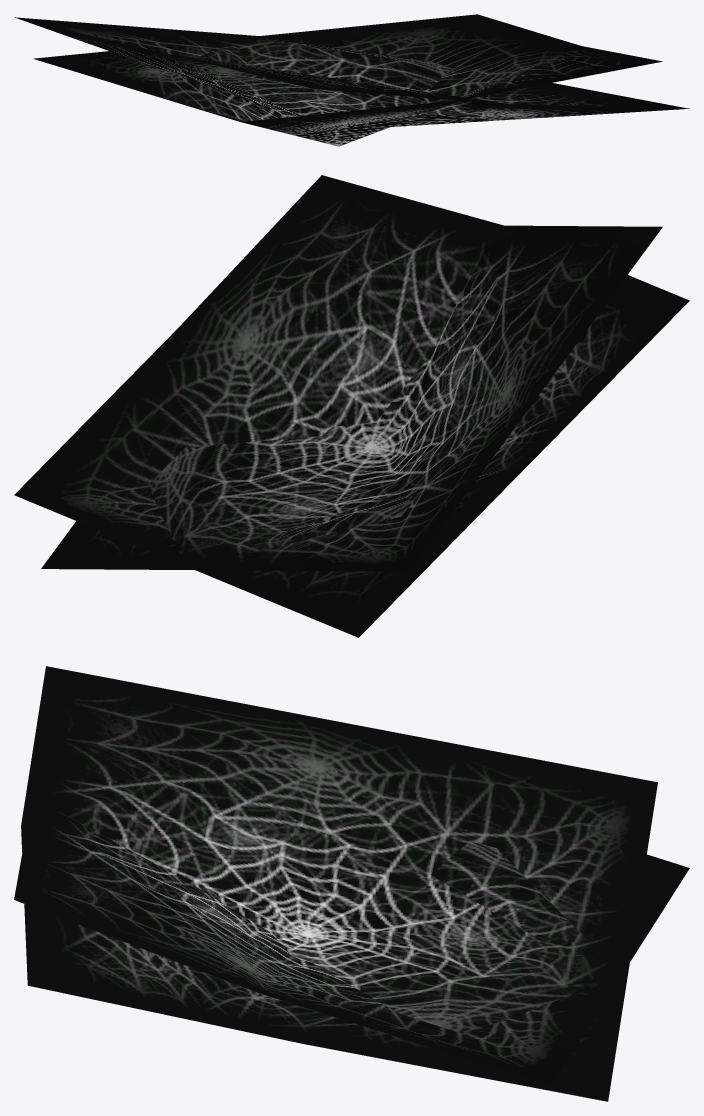
Rendered from DWARF_PALACE_SPIDERWEB19.fbx.
The picture shows the model from 3 angles, top to bottom: view 1: azimuth 30°, elevation 25°; view 2: azimuth 150°, elevation 25°; view 3: azimuth 270°, elevation 25°; orthographic projection. The views are drawn at different scales.
Visible parts, largest first — view 1: DWARF_PALACE_SPIDERWEB19; view 2: DWARF_PALACE_SPIDERWEB19; view 3: DWARF_PALACE_SPIDERWEB19.
Part boxes in pixels (left/top/right/bottom): DWARF_PALACE_SPIDERWEB19: left=14, top=14, right=689, bottom=146; DWARF_PALACE_SPIDERWEB19: left=14, top=175, right=689, bottom=637; DWARF_PALACE_SPIDERWEB19: left=14, top=666, right=689, bottom=1101.
Bounding box in the file's own units: 65899 × 31956 × 78178.
1 material, 1 textured.
